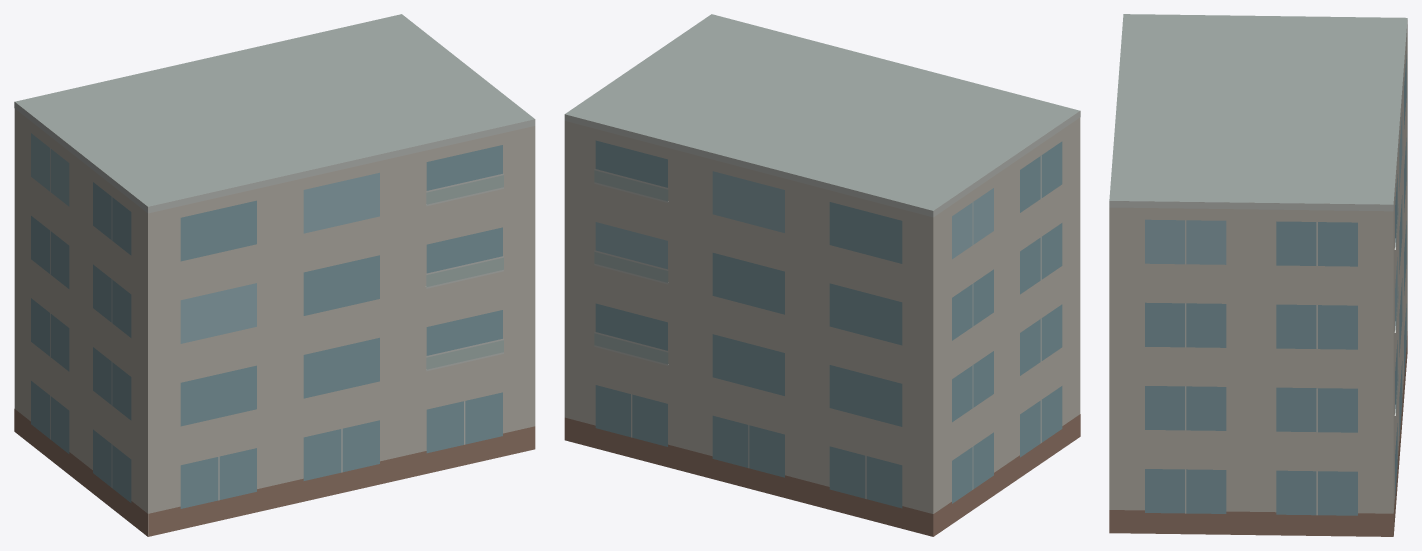
Rendered from survey-upis-32836119.glb.
3 views of the same model, side by side, from view 1: azimuth 30°, elevation 25°; view 2: azimuth 150°, elevation 25°; view 3: azimuth 270°, elevation 25° (orthographic).
Parts seen in each view (by area): view 1: survey-upis-32836119.tmp; view 2: survey-upis-32836119.tmp; view 3: survey-upis-32836119.tmp.
Boxes of the visible parts, box(x1,y1,x2,y2) form: survey-upis-32836119.tmp: box(14, 14, 535, 536); survey-upis-32836119.tmp: box(564, 14, 1080, 536); survey-upis-32836119.tmp: box(1109, 14, 1407, 536).
Size of the model in its own units: 15.02 by 12.2 by 9.94.
